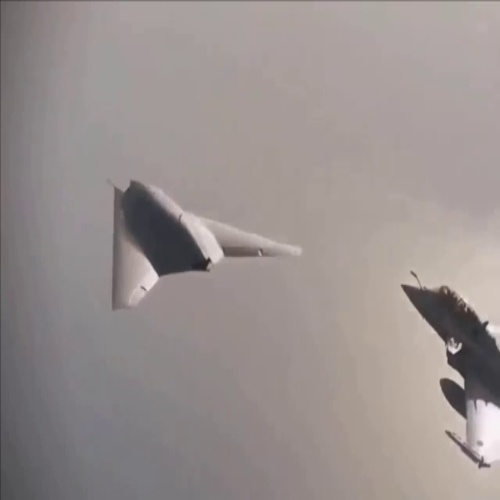uav862: (104, 171, 301, 310)
